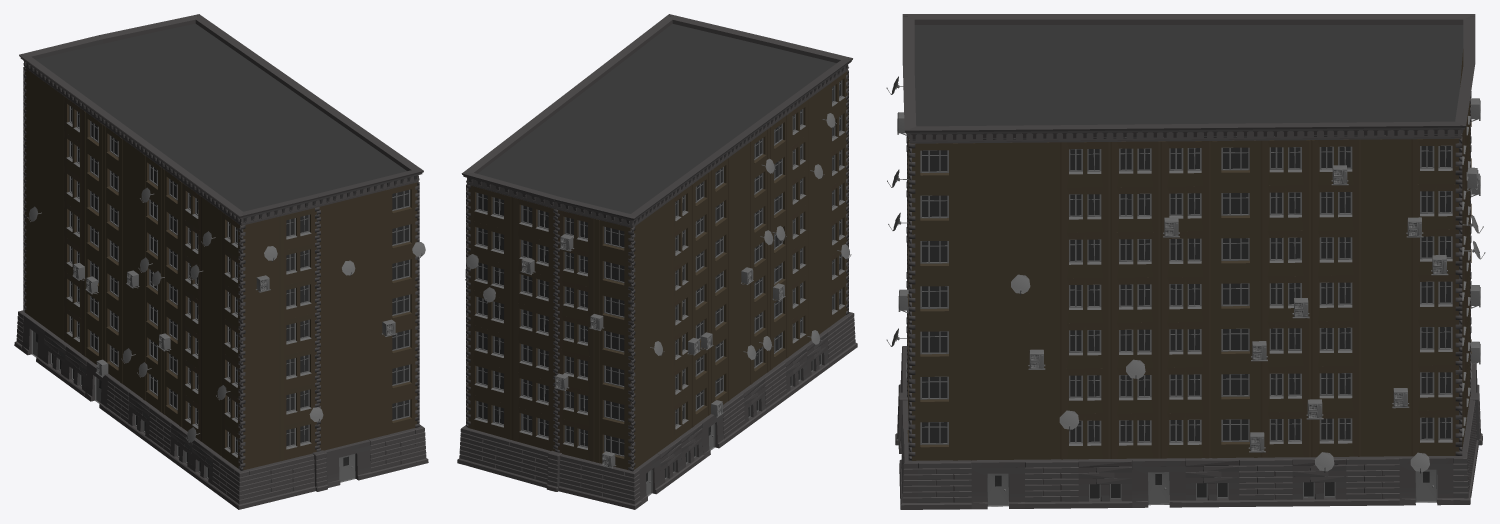
3 renders of one model, left to right at view 1: azimuth 30°, elevation 25°; view 2: azimuth 150°, elevation 25°; view 3: azimuth 270°, elevation 25°, orthographic. The views are drawn at different scales.
Parts seen in each view (by area): view 1: Plane.011, ground_floor_wall_02.079, ground_floor_wall_02.068, ground_floor_wall_01.022, middle_floor_wall_02.311, middle_floor_wall_02.307, middle_floor_wall_02.308, middle_floor_wall_02.309, middle_floor_wall_02.310, middle_floor_wall_02.305, middle_floor_wall_01.159, middle_floor_wall_01.160 (+122 smaller); view 2: Plane.011, ground_floor_wall_02.078, ground_floor_wall_02.069, middle_floor_wall_02.276, middle_floor_wall_02.270, middle_floor_wall_02.268, middle_floor_wall_02.266, middle_floor_wall_02.264, middle_floor_wall_02.275, ground_floor_wall_02.070, middle_floor_wall_02.267, middle_floor_wall_02.265 (+112 smaller); view 3: Plane.011, ground_floor_wall_03.025, ground_floor_wall_02.074, ground_floor_wall_02.075, ground_floor_wall_02.076, ground_floor_wall_02.077, ground_floor_wall_03.024, ground_floor_wall_01.026, ground_floor_wall_01.025, ground_floor_wall_03.026, ground_floor_wall_01.027, middle_floor_wall_01.171 (+89 smaller).
Boxes of the visible parts, left/top/right/bottom form: Plane.011: left=36, top=23, right=406, bottom=211; ground_floor_wall_02.079: left=247, top=453, right=315, bottom=506; ground_floor_wall_02.068: left=368, top=428, right=416, bottom=476; ground_floor_wall_01.022: left=324, top=439, right=371, bottom=487; middle_floor_wall_02.311: left=279, top=207, right=317, bottom=251; middle_floor_wall_02.307: left=279, top=348, right=316, bottom=391; middle_floor_wall_02.308: left=279, top=313, right=316, bottom=356; middle_floor_wall_02.309: left=279, top=278, right=316, bottom=321; middle_floor_wall_02.310: left=279, top=243, right=316, bottom=286; middle_floor_wall_02.305: left=279, top=419, right=316, bottom=461; middle_floor_wall_01.159: left=243, top=391, right=279, bottom=435; middle_floor_wall_01.160: left=243, top=356, right=279, bottom=400; Plane.011: left=478, top=24, right=836, bottom=213; ground_floor_wall_02.078: left=558, top=454, right=626, bottom=506; ground_floor_wall_02.069: left=468, top=429, right=511, bottom=477; middle_floor_wall_02.276: left=511, top=197, right=554, bottom=243; middle_floor_wall_02.270: left=511, top=301, right=554, bottom=347; middle_floor_wall_02.268: left=511, top=336, right=554, bottom=382; middle_floor_wall_02.266: left=511, top=371, right=554, bottom=417; middle_floor_wall_02.264: left=511, top=405, right=554, bottom=451; middle_floor_wall_02.275: left=468, top=185, right=511, bottom=231; ground_floor_wall_02.070: left=508, top=440, right=550, bottom=487; middle_floor_wall_02.267: left=468, top=324, right=511, bottom=370; middle_floor_wall_02.265: left=468, top=359, right=511, bottom=405; Plane.011: left=914, top=25, right=1463, bottom=126; ground_floor_wall_03.025: left=1185, top=457, right=1239, bottom=507; ground_floor_wall_02.074: left=918, top=460, right=971, bottom=509; ground_floor_wall_02.075: left=1025, top=459, right=1078, bottom=508; ground_floor_wall_02.076: left=1239, top=457, right=1292, bottom=506; ground_floor_wall_02.077: left=1346, top=456, right=1399, bottom=505; ground_floor_wall_03.024: left=1078, top=458, right=1132, bottom=508; ground_floor_wall_01.026: left=1132, top=458, right=1185, bottom=507; ground_floor_wall_01.025: left=971, top=459, right=1025, bottom=509; ground_floor_wall_03.026: left=1292, top=457, right=1346, bottom=506; ground_floor_wall_01.027: left=1399, top=456, right=1453, bottom=505; middle_floor_wall_01.171: left=959, top=324, right=1009, bottom=369.
Size of the model in its own units: 1858 by 2524 by 3630.
